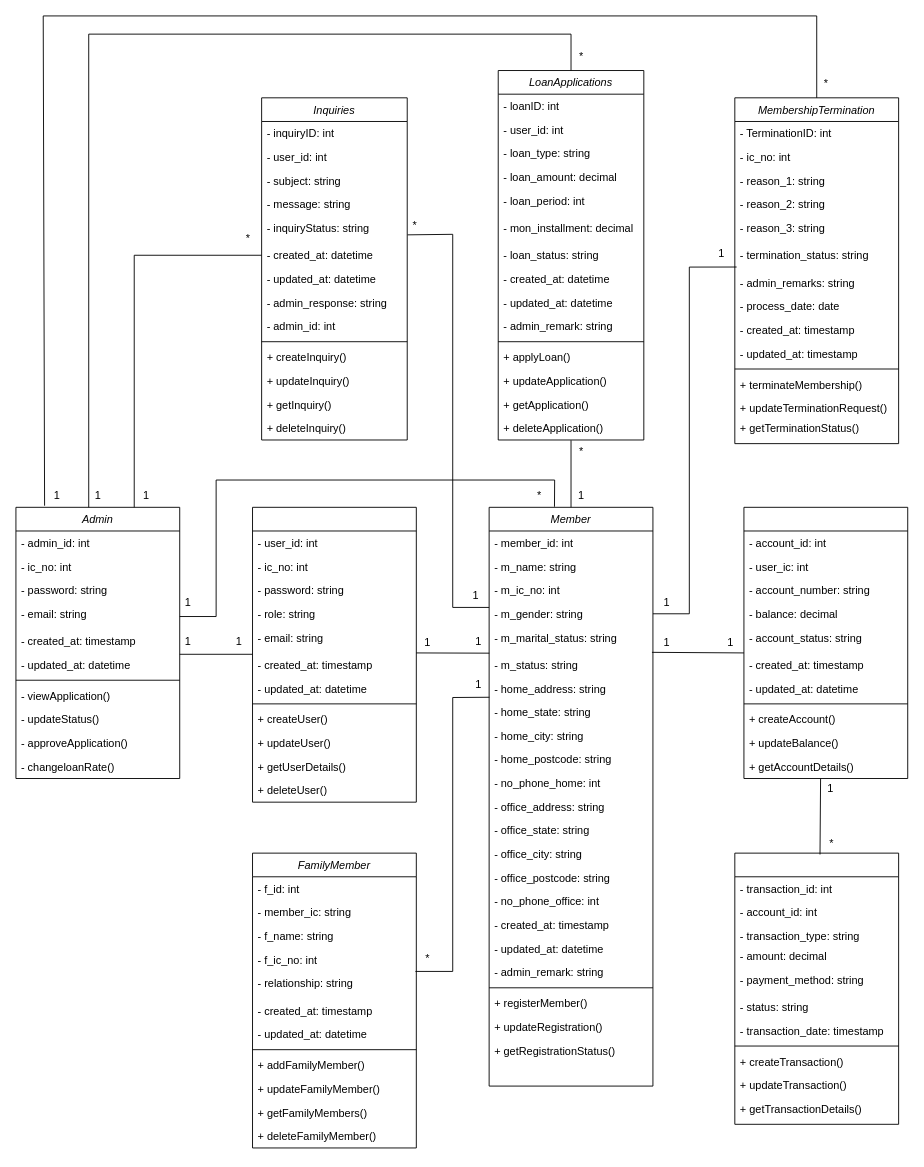
This 924x1167 diagram has some shape labels left out. Each missing label, with the box of its shape:
SavingAccounts: (743, 506, 908, 779)
SavingTransactions: (734, 852, 899, 1124)
Users: (252, 506, 416, 802)
